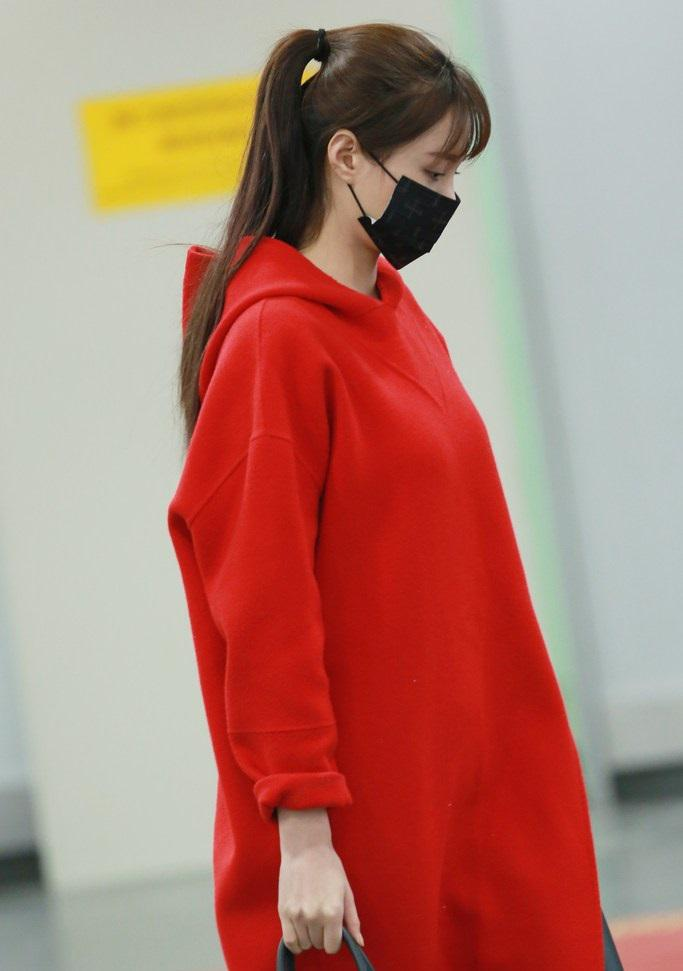OK: (354, 110, 468, 261)
